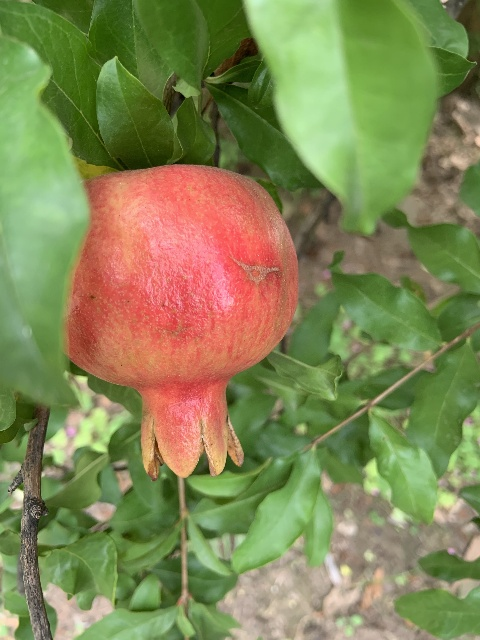ripe: (61, 163, 296, 480)
